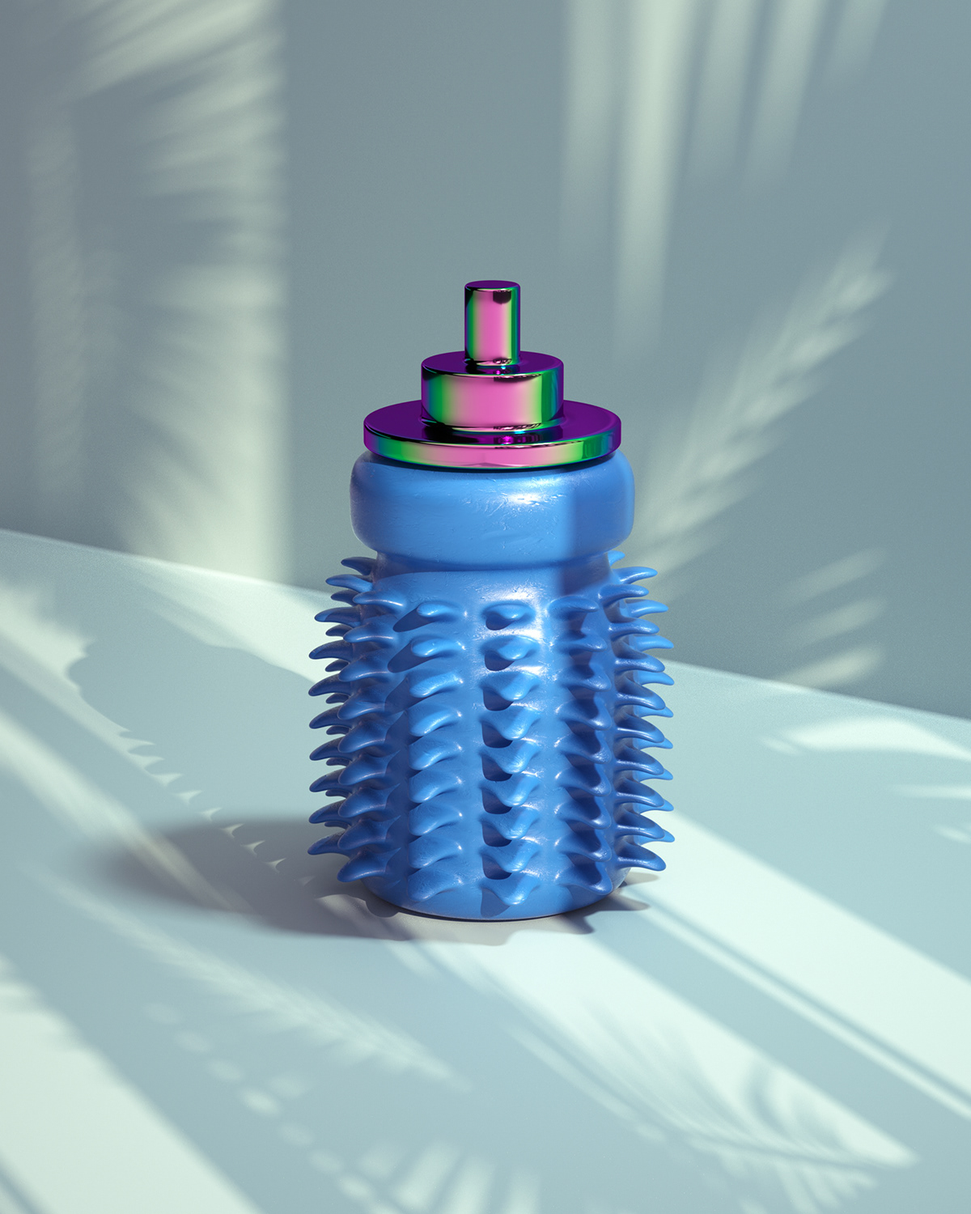not a gesture sign: (0, 533, 970, 1213), (354, 588, 556, 882)
